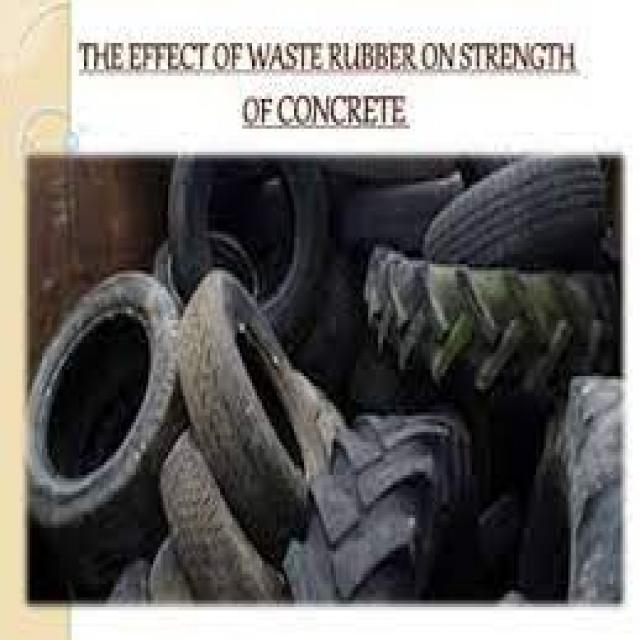Rubber -Non-Biodegradable but Recyclable-: (32, 133, 632, 602)
